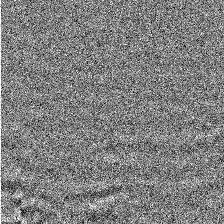cavities: (40, 35, 215, 183)
